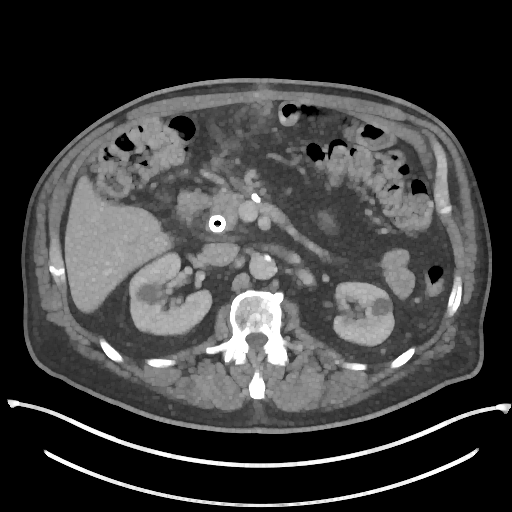Lesion: (130, 282, 166, 309)
